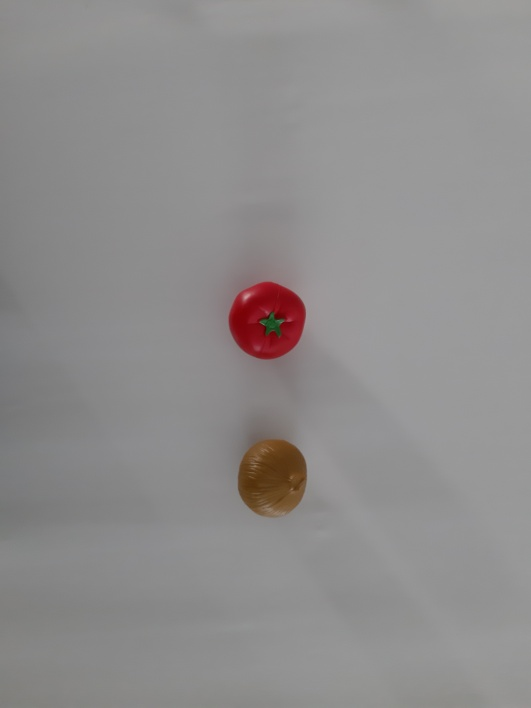onion: (216, 429, 333, 539)
tomato: (211, 269, 333, 375)
